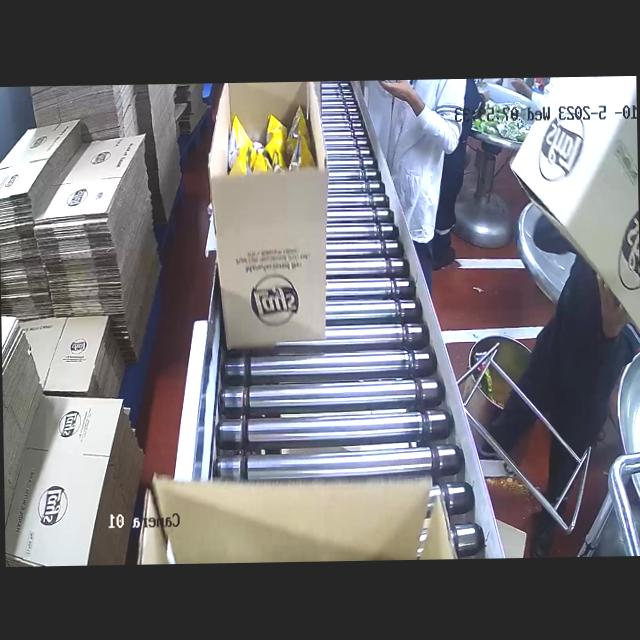salted: (236, 100, 314, 172)
